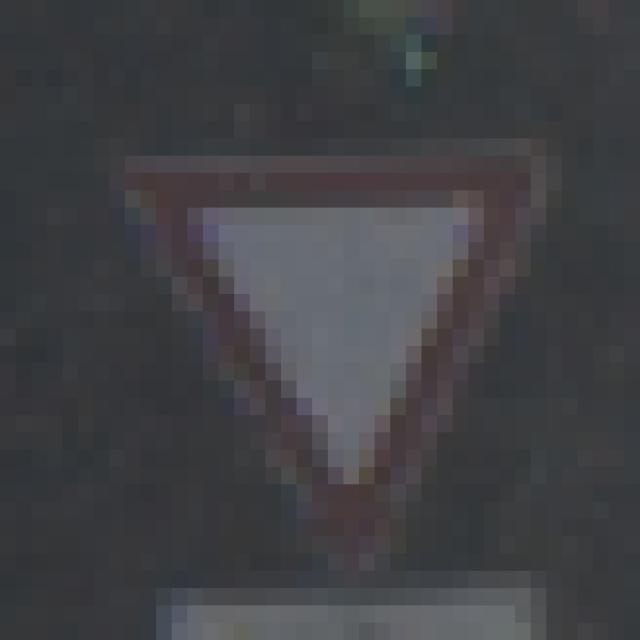Give Way: (95, 105, 563, 554)
